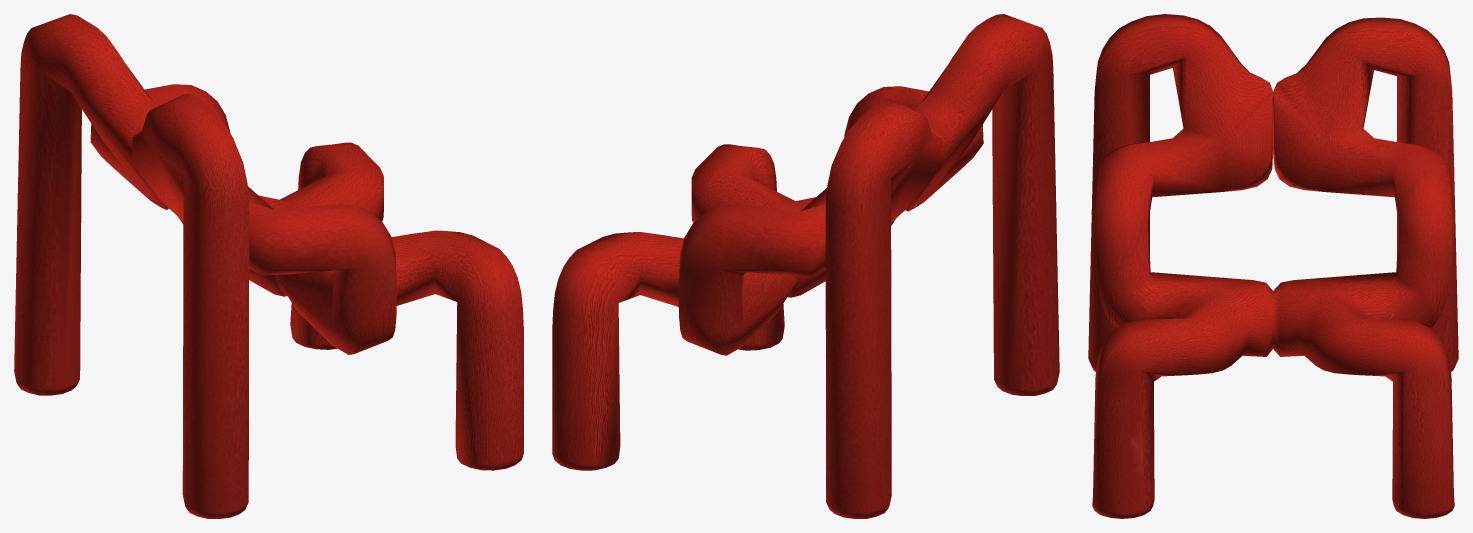
File: red+chain+chair+3d+model.glb
3 views of the same model, side by side, from view 1: azimuth 30°, elevation 25°; view 2: azimuth 150°, elevation 25°; view 3: azimuth 270°, elevation 25° (orthographic). The views are drawn at different scales.
Visible parts, largest first — view 1: tripo_node_d387fa72-44c4-4543-8501-add15218322e; view 2: tripo_node_d387fa72-44c4-4543-8501-add15218322e; view 3: tripo_node_d387fa72-44c4-4543-8501-add15218322e.
Part boxes in pixels (box(x1,y1,x2,y2)): tripo_node_d387fa72-44c4-4543-8501-add15218322e: box(14, 14, 523, 518); tripo_node_d387fa72-44c4-4543-8501-add15218322e: box(552, 14, 1059, 518); tripo_node_d387fa72-44c4-4543-8501-add15218322e: box(1088, 14, 1458, 518).
Size of the model in its own units: 0.8809 by 0.998 by 0.916.
1 material, 1 textured.
